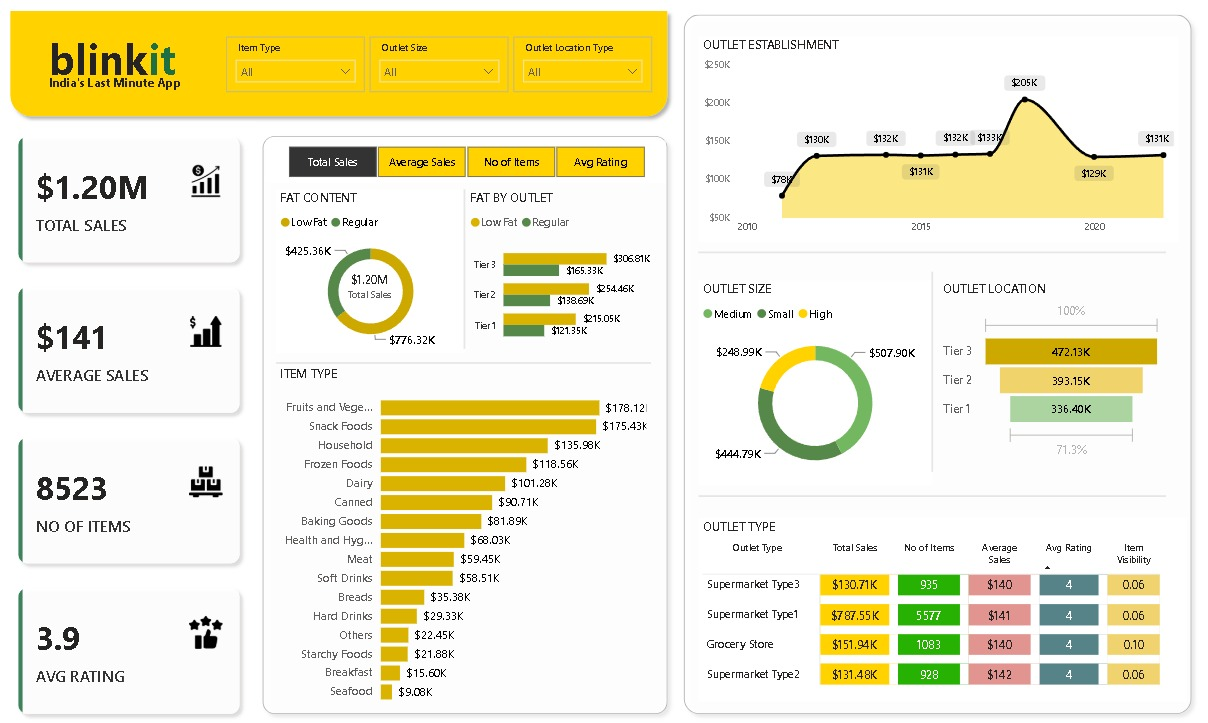

The dashboard page shown, as its layout file describes it:
{"tool":"powerbi","page":{"name":"Page 1","canvas":[1400,850],"ordinal":0},"visuals":[{"type":"shape","box":[13.5,11.5,769.2,138.5],"z":0},{"type":"textbox","box":[61.1,36.7,193.3,76.1],"z":1000},{"type":"textbox","box":[61.1,88.9,179.4,31.7],"z":2000},{"type":"cardVisual","fields":{"Data":["BlinkIT Grocery Data.Total Sales","BlinkIT Grocery Data.Average Sales","BlinkIT Grocery Data.No of Items","BlinkIT Grocery Data.Avg Rating"]},"box":[14.1,146.9,287.5,695.3],"z":3000},{"type":"shape","box":[782.7,15.4,598.1,817.3],"z":4000},{"type":"shape","box":[301.9,153.8,480.8,678.8],"z":5000},{"type":"donutChart","title":"FAT CONTENT","fields":{"Y":["BlinkIT Grocery Data.Total Sales"],"Category":["BlinkIT Grocery Data.Item Fat Content"]},"box":[325.3,224,216.7,187.3],"z":6000},{"type":"slicer","fields":{"Values":["Metrics.Metrics"]},"box":[313.6,168.6,456.4,48.6],"z":7000},{"type":"cardVisual","fields":{"Data":["BlinkIT Grocery Data.Total Sales"]},"box":[375.8,296.7,114.2,75.8],"z":8000},{"type":"clusteredBarChart","title":"FAT BY OUTLET","fields":{"Y":["BlinkIT Grocery Data.Total Sales"],"Series":["BlinkIT Grocery Data.Item Fat Content"],"Category":["BlinkIT Grocery Data.Outlet Location Type"]},"box":[542.9,224.3,217.1,188.6],"z":9000},{"type":"shape","box":[519.2,224.2,45,182.5],"z":10000},{"type":"shape","box":[325.7,402.9,428.6,40],"z":11000},{"type":"barChart","title":"ITEM TYPE","fields":{"Y":["BlinkIT Grocery Data.Total Sales"],"Category":["BlinkIT Grocery Data.Item Type"]},"box":[325.7,425.7,428.6,395.7],"z":12000},{"type":"lineChart","title":"OUTLET ESTABLISHMENT","fields":{"Category":["BlinkIT Grocery Data.Outlet Establishment Year"],"Y":["BlinkIT Grocery Data.Total Sales"]},"box":[808.6,50,548.6,234.3],"z":13000},{"type":"shape","box":[808.6,284.3,534.3,24.3],"z":14000},{"type":"donutChart","title":"OUTLET SIZE","fields":{"Y":["BlinkIT Grocery Data.Total Sales"],"Category":["BlinkIT Grocery Data.Outlet Size"]},"box":[808.6,328.6,267.1,234.3],"z":15000},{"type":"shape","box":[1052.9,318.6,45.7,228.6],"z":16000},{"type":"funnel","title":"OUTLET LOCATION","fields":{"Y":["Sum(BlinkIT Grocery Data.Sales)"],"Category":["BlinkIT Grocery Data.Outlet Location Type"]},"box":[1082.9,328.6,260,210],"z":17000},{"type":"shape","box":[808.6,562.9,534.3,24.3],"z":18000},{"type":"pivotTable","title":"OUTLET TYPE","fields":{"Rows":["BlinkIT Grocery Data.Outlet Type"],"Values":["BlinkIT Grocery Data.Total Sales","BlinkIT Grocery Data.No of Items","BlinkIT Grocery Data.Average Sales","BlinkIT Grocery Data.Avg Rating","Avg(BlinkIT Grocery Data.Item Visibility)"]},"box":[808.6,600,558.6,210],"z":19000},{"type":"slicer","fields":{"Values":["BlinkIT Grocery Data.Outlet Location Type"]},"box":[597,50,158,63],"z":20000},{"type":"slicer","fields":{"Values":["BlinkIT Grocery Data.Item Type"]},"box":[269.2,50,158.5,63.1],"z":21000},{"type":"slicer","fields":{"Values":["BlinkIT Grocery Data.Outlet Size"]},"box":[433.1,50,158.5,63.1],"z":22000}]}

Visuals, with their boxes in screenshot pixels (x1, y1, x2, y2), scaled from the page's 1400x850 canvas onto the 1208x723 screenshot:
shape: <bbox>12, 10, 675, 128</bbox>
textbox: <bbox>53, 31, 220, 96</bbox>
textbox: <bbox>53, 76, 208, 103</bbox>
cardVisual - BlinkIT Grocery Data.Total Sales x BlinkIT Grocery Data.Average Sales: <bbox>12, 125, 260, 716</bbox>
shape: <bbox>675, 13, 1191, 708</bbox>
shape: <bbox>260, 131, 675, 708</bbox>
"FAT CONTENT" donutChart: <bbox>281, 191, 468, 350</bbox>
slicer - Metrics.Metrics: <bbox>271, 143, 664, 185</bbox>
cardVisual - BlinkIT Grocery Data.Total Sales: <bbox>324, 252, 423, 317</bbox>
"FAT BY OUTLET" clusteredBarChart: <bbox>468, 191, 656, 351</bbox>
shape: <bbox>448, 191, 487, 346</bbox>
shape: <bbox>281, 343, 651, 377</bbox>
"ITEM TYPE" barChart: <bbox>281, 362, 651, 699</bbox>
"OUTLET ESTABLISHMENT" lineChart: <bbox>698, 43, 1171, 242</bbox>
shape: <bbox>698, 242, 1159, 262</bbox>
"OUTLET SIZE" donutChart: <bbox>698, 280, 928, 479</bbox>
shape: <bbox>909, 271, 948, 465</bbox>
"OUTLET LOCATION" funnel: <bbox>934, 280, 1159, 458</bbox>
shape: <bbox>698, 479, 1159, 499</bbox>
"OUTLET TYPE" pivotTable: <bbox>698, 510, 1180, 689</bbox>
slicer - BlinkIT Grocery Data.Outlet Location Type: <bbox>515, 43, 651, 96</bbox>
slicer - BlinkIT Grocery Data.Item Type: <bbox>232, 43, 369, 96</bbox>
slicer - BlinkIT Grocery Data.Outlet Size: <bbox>374, 43, 510, 96</bbox>
